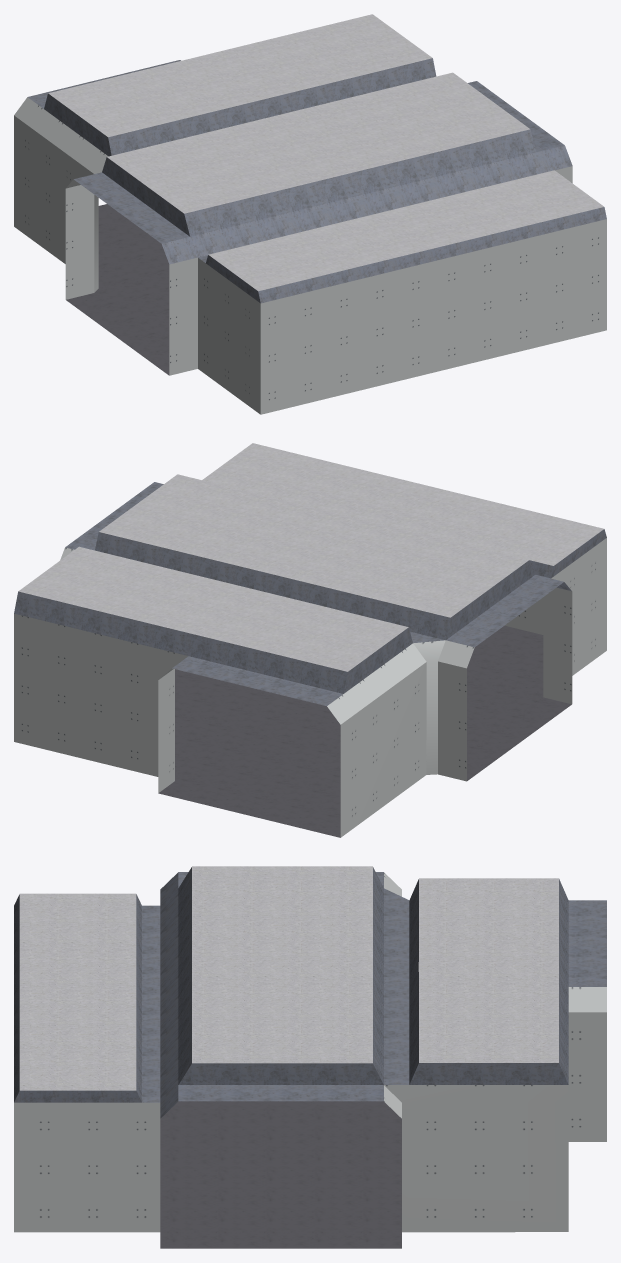
The model's file is starship_tech_room.FBX.
3 renders of one model, top to bottom at view 1: azimuth 30°, elevation 25°; view 2: azimuth 150°, elevation 25°; view 3: azimuth 270°, elevation 25°, orthographic. The views are drawn at different scales.
Parts seen in each view (by area): view 1: Object001; view 2: Object001; view 3: Object001.
Boxes of the visible parts, left/top/right/bottom form: Object001: left=14, top=14, right=606, bottom=414; Object001: left=14, top=443, right=606, bottom=837; Object001: left=14, top=866, right=606, bottom=1248.
Size of the model in its own units: 5.47 by 1.88 by 5.97.
4 materials, 4 textured.
